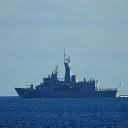Fragata: (15, 48, 123, 100)
